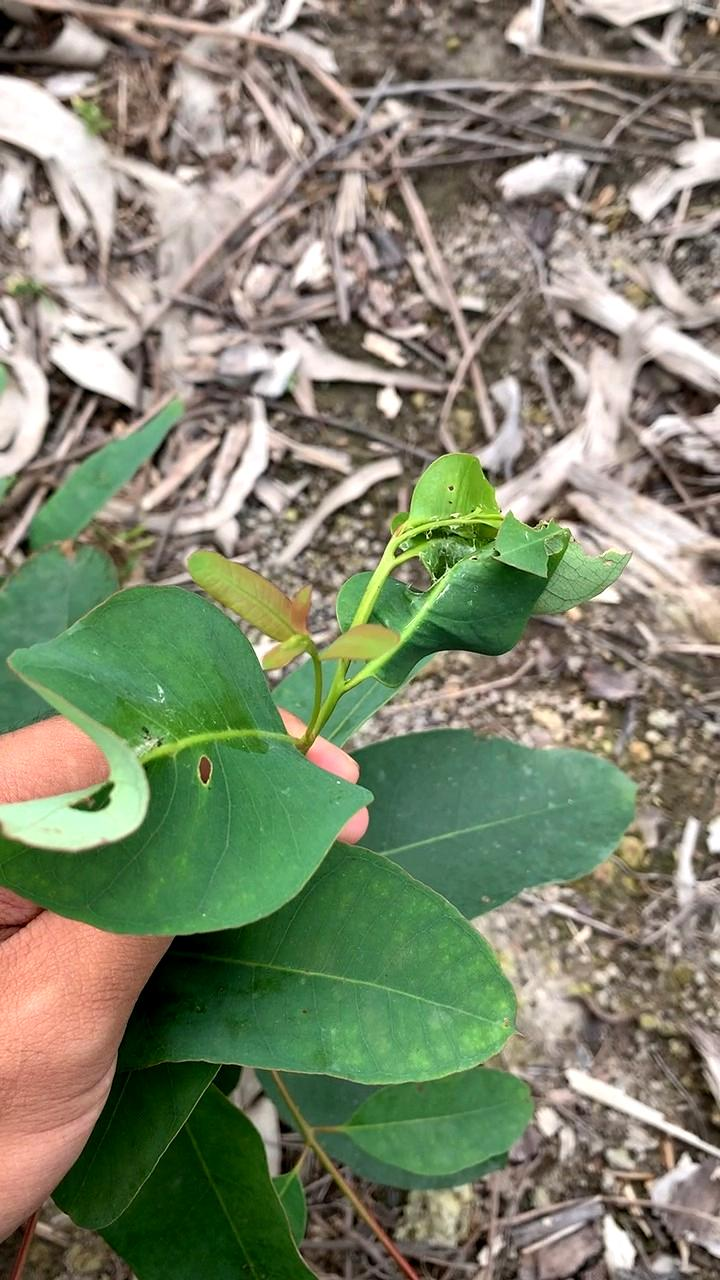Leaf Roller - Leaf: (353, 438, 636, 712)
